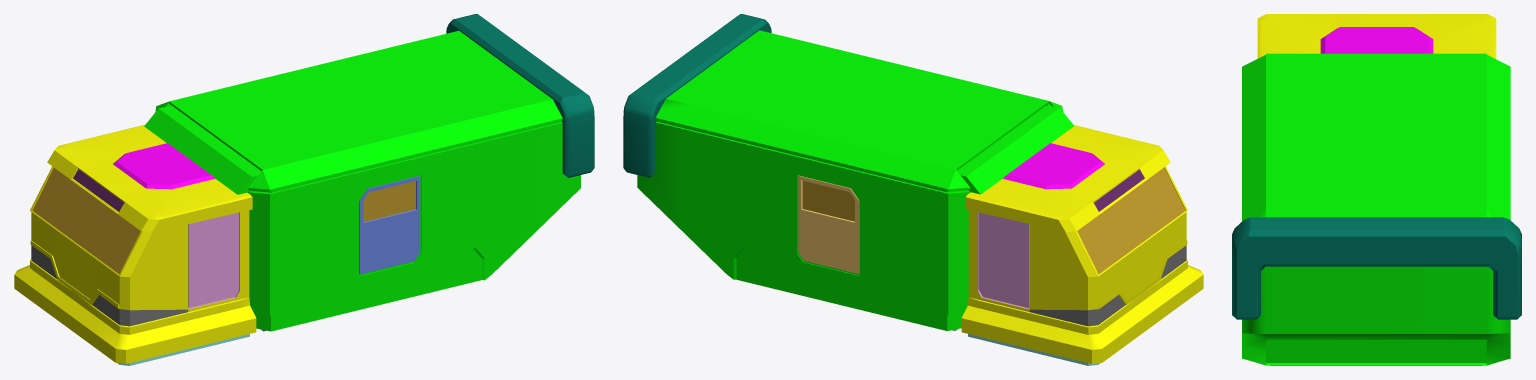
Rendered from SM_Ambulance.fbx.
The picture shows the model from 3 angles, left to right: view 1: azimuth 30°, elevation 25°; view 2: azimuth 150°, elevation 25°; view 3: azimuth 270°, elevation 25°; orthographic projection. The views are drawn at different scales.
Parts seen in each view (by area): view 1: Ambulance; view 2: Ambulance; view 3: Ambulance.
Part boxes in pixels (x1,y1,x2,y2): Ambulance: (14,14,594,365); Ambulance: (623,14,1203,365); Ambulance: (1232,14,1521,365).
Bounding box in the file's own units: 3.63 × 1.24 × 1.64.
